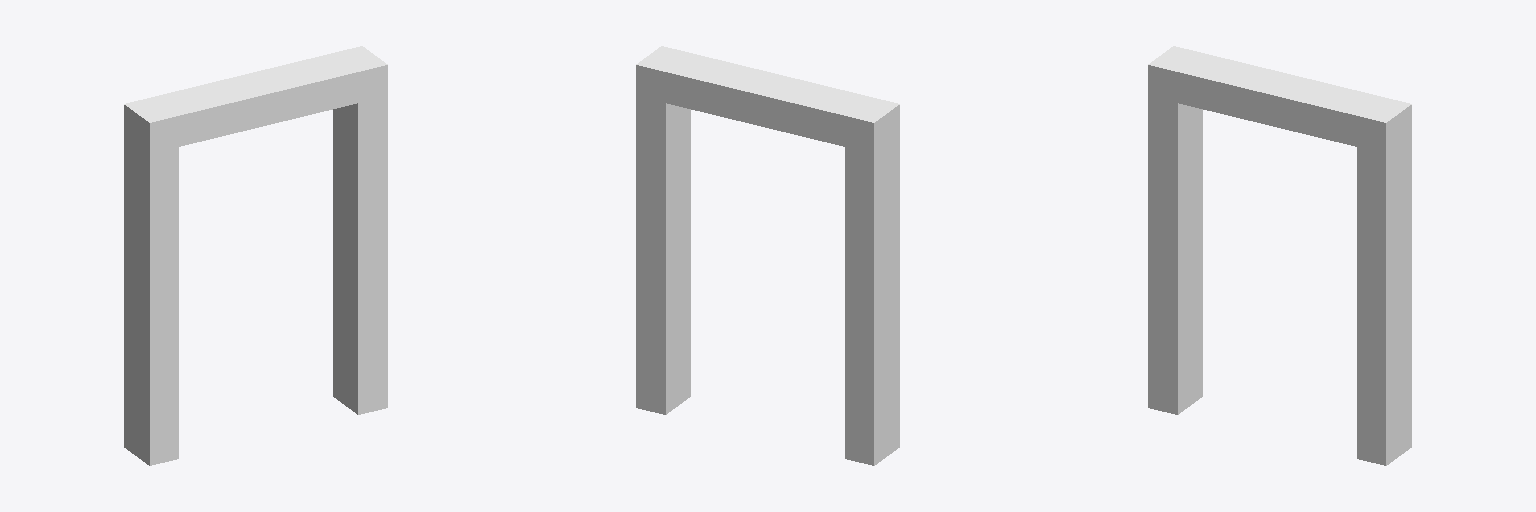
File: DoorFrame.obj
The picture shows the model from 3 angles: view 1: azimuth 30°, elevation 25°; view 2: azimuth 150°, elevation 25°; view 3: azimuth 330°, elevation 25°; orthographic projection.
Visible parts, largest first — view 1: object 1; view 2: object 1; view 3: object 1.
Part boxes in pixels (bbox=[...]): object 1: bbox=[124, 46, 387, 465]; object 1: bbox=[636, 46, 899, 465]; object 1: bbox=[1148, 46, 1411, 465].
Bounding box in the file's own units: 1.6 × 2.2 × 0.3.